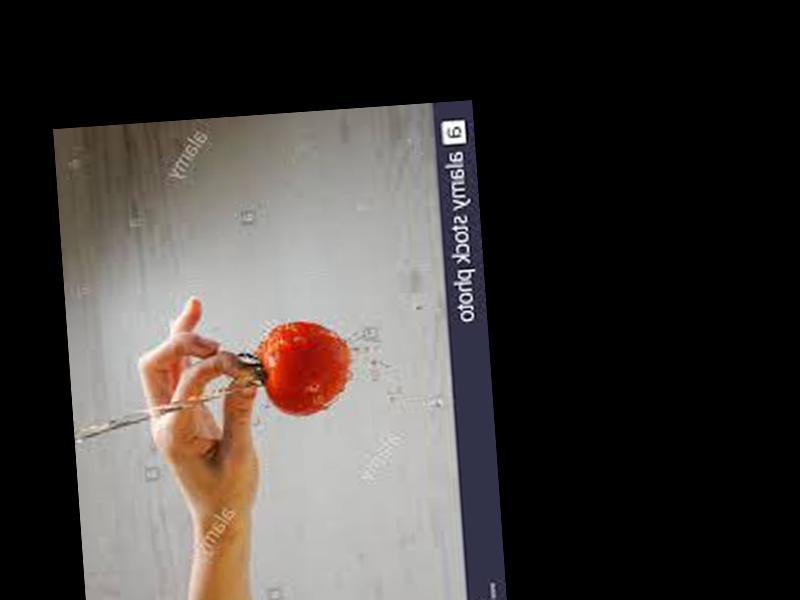Tomato: (257, 321, 356, 421)
